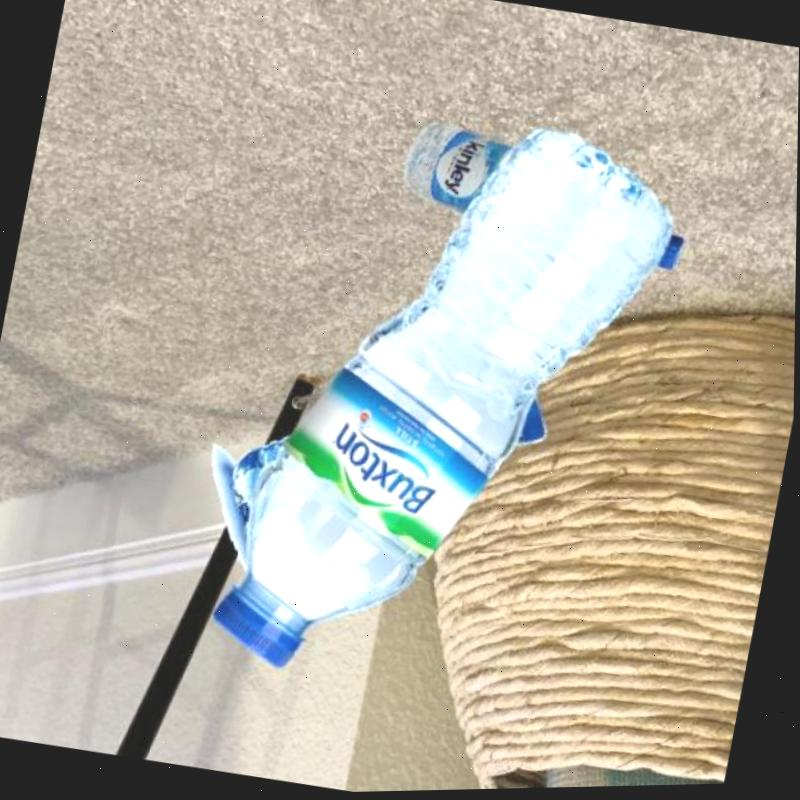botella: (206, 98, 685, 722), (220, 358, 559, 594), (389, 109, 700, 282)
